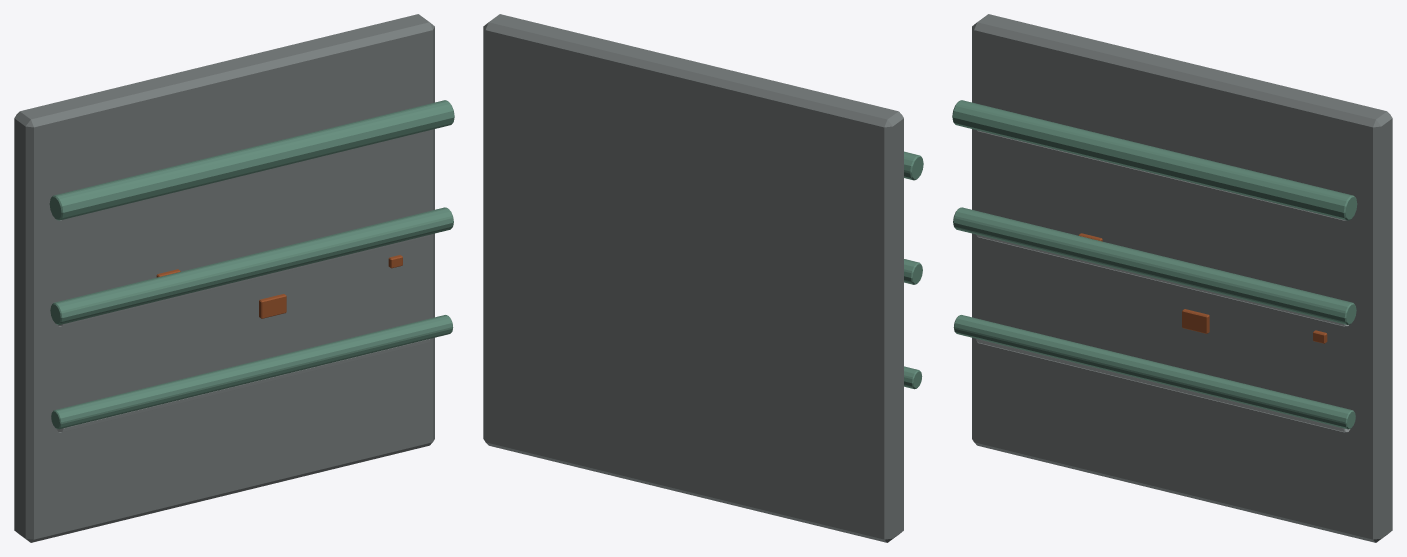
Rendered from runtime.glb.
3 renders of one model, left to right at view 1: azimuth 30°, elevation 25°; view 2: azimuth 150°, elevation 25°; view 3: azimuth 330°, elevation 25°, orthographic.
Visible parts, largest first — view 1: reactor-pipe-support-v06_nocol; view 2: reactor-pipe-support-v06_nocol; view 3: reactor-pipe-support-v06_nocol.
Boxes of the visible parts, box(x1,y1,x2,y2) form: reactor-pipe-support-v06_nocol: box(14, 14, 454, 542); reactor-pipe-support-v06_nocol: box(483, 14, 923, 542); reactor-pipe-support-v06_nocol: box(952, 14, 1392, 542).
Size of the model in its own units: 3.79 by 3.74 by 0.6856.
